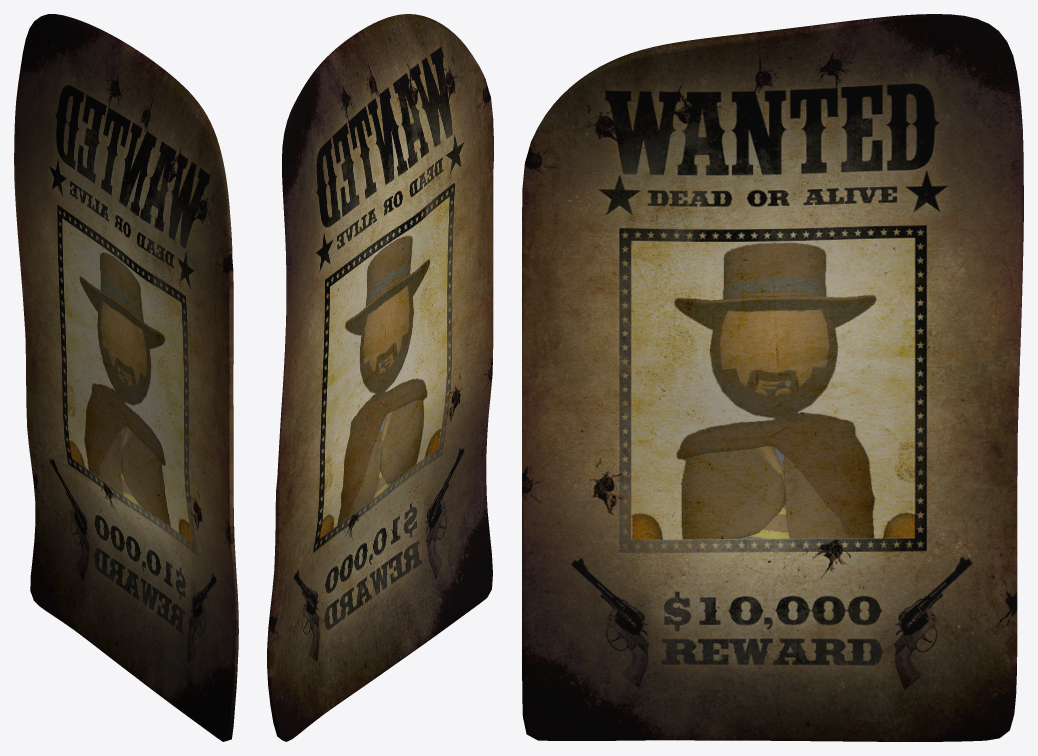
The model's file is Poster.fbx.
3 renders of one model, left to right at view 1: azimuth 30°, elevation 25°; view 2: azimuth 150°, elevation 25°; view 3: azimuth 270°, elevation 25°, orthographic. The views are drawn at different scales.
Visible parts, largest first — view 1: pCube1; view 2: pCube1; view 3: pCube1.
Part boxes in pixels (bbox=[...]): pCube1: bbox=[14, 14, 238, 741]; pCube1: bbox=[267, 14, 493, 741]; pCube1: bbox=[522, 14, 1023, 741].
Size of the model in its own units: 0.9191 by 12.01 by 7.44.
